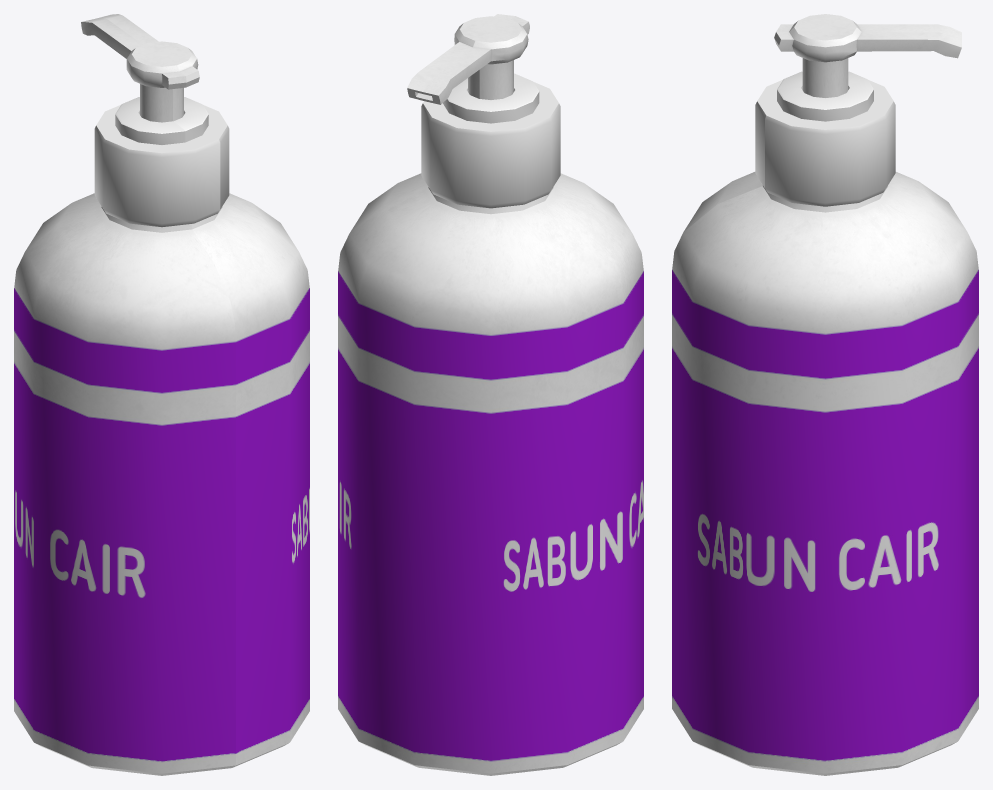
The model's file is sabun_cair.fbx.
3 views of the same model, side by side, from view 1: azimuth 30°, elevation 25°; view 2: azimuth 150°, elevation 25°; view 3: azimuth 270°, elevation 25° (orthographic). The views are drawn at different scales.
Visible parts, largest first — view 1: Sabun_cair:Main_Layer, Sabun_cair:Layer2; view 2: Sabun_cair:Main_Layer, Sabun_cair:Layer2; view 3: Sabun_cair:Main_Layer, Sabun_cair:Layer2.
Boxes of the visible parts, x1=… form: Sabun_cair:Main_Layer: x1=14, y1=97, x2=309, y2=775; Sabun_cair:Layer2: x1=81, y1=14, x2=199, y2=122; Sabun_cair:Main_Layer: x1=338, y1=73, x2=643, y2=775; Sabun_cair:Layer2: x1=407, y1=14, x2=529, y2=104; Sabun_cair:Main_Layer: x1=672, y1=71, x2=978, y2=775; Sabun_cair:Layer2: x1=774, y1=14, x2=961, y2=97.
Size of the model in its own units: 8.09 by 20 by 8.09.
1 material, 1 textured.
